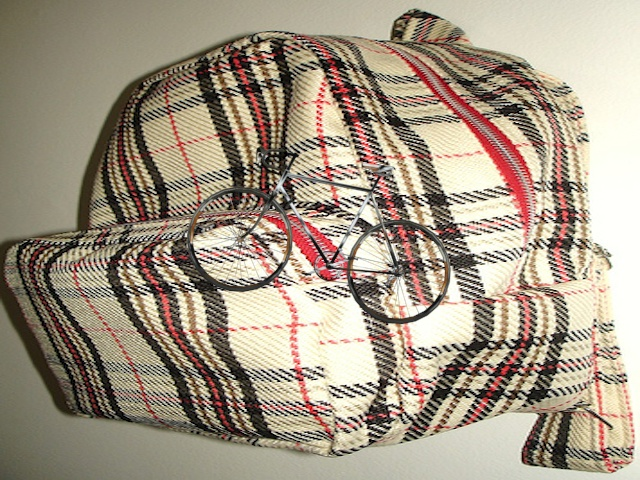bike: (177, 145, 462, 336)
